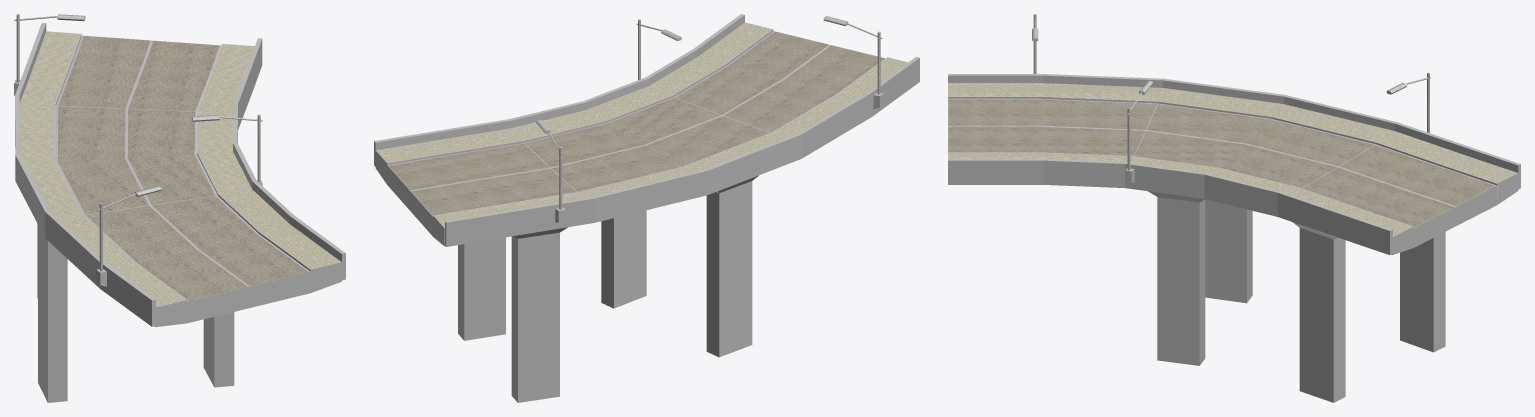
Rendered from road_hi_01cv.fbx.
3 views of the same model, side by side, from view 1: azimuth 30°, elevation 25°; view 2: azimuth 150°, elevation 25°; view 3: azimuth 270°, elevation 25° (orthographic). The views are drawn at different scales.
Visible parts, largest first — view 1: road_hi_01cv; view 2: road_hi_01cv; view 3: road_hi_01cv.
Part boxes in pixels (<box>): road_hi_01cv: <box>14,14,345,402</box>; road_hi_01cv: <box>374,14,919,402</box>; road_hi_01cv: <box>948,14,1520,402</box>.
Bounding box in the file's own units: 47.84 × 36.05 × 72.25.
